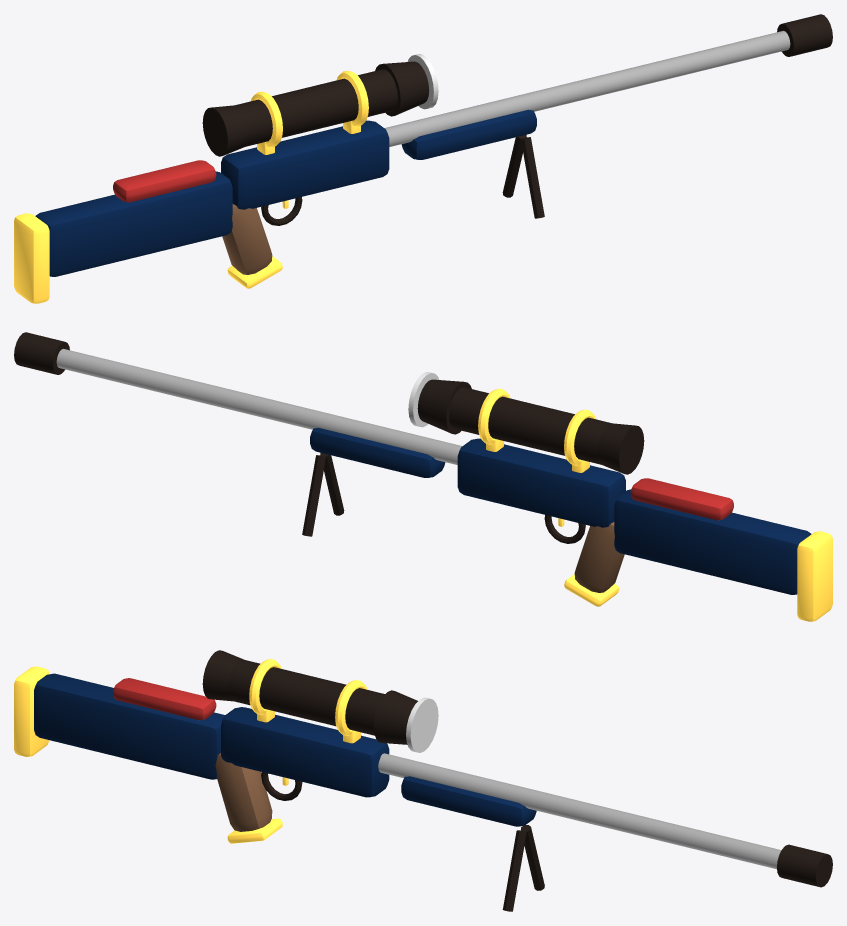
File: PS_Sniper.glb
3 views of the same model, one above another, from view 1: azimuth 30°, elevation 25°; view 2: azimuth 150°, elevation 25°; view 3: azimuth 330°, elevation 25° (orthographic).
Parts seen in each view (by area): view 1: Body.002, Paint.002; view 2: Body.002, Paint.002; view 3: Body.002, Paint.002.
Part boxes in pixels (box(x1,y1,x2,y2)): Body.002: box(14, 14, 832, 303); Paint.002: box(35, 109, 536, 276); Body.002: box(14, 332, 832, 621); Paint.002: box(310, 427, 811, 594); Body.002: box(14, 650, 832, 911); Paint.002: box(34, 673, 536, 826).
Size of the model in its own units: 1.03 by 0.2234 by 0.0821.
3 materials, 3 textured.
